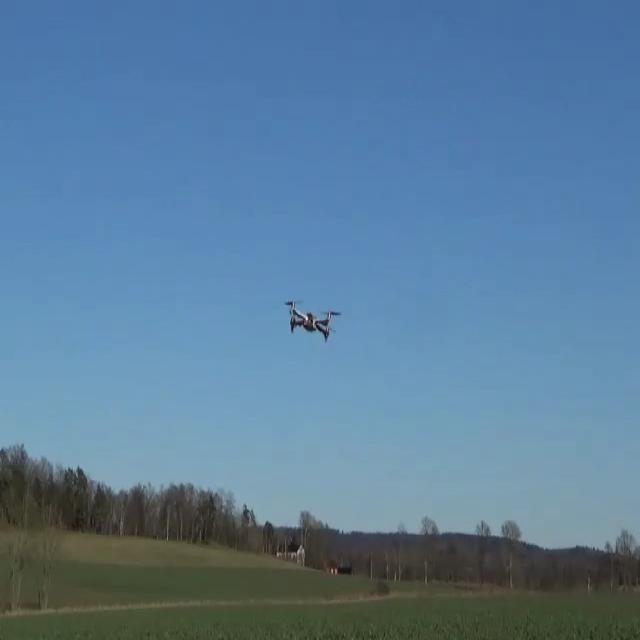Drone: (270, 277, 346, 356)
